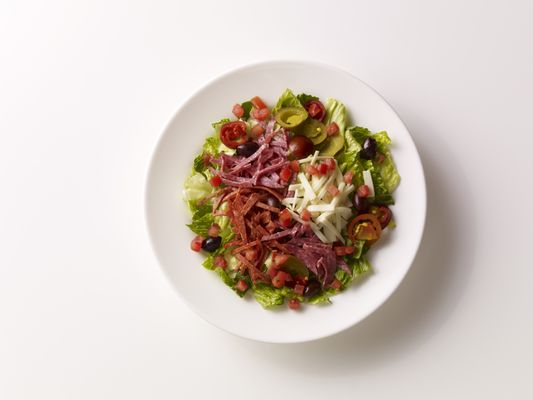curry: (336, 126, 401, 206)
sushi: (142, 62, 432, 345)
